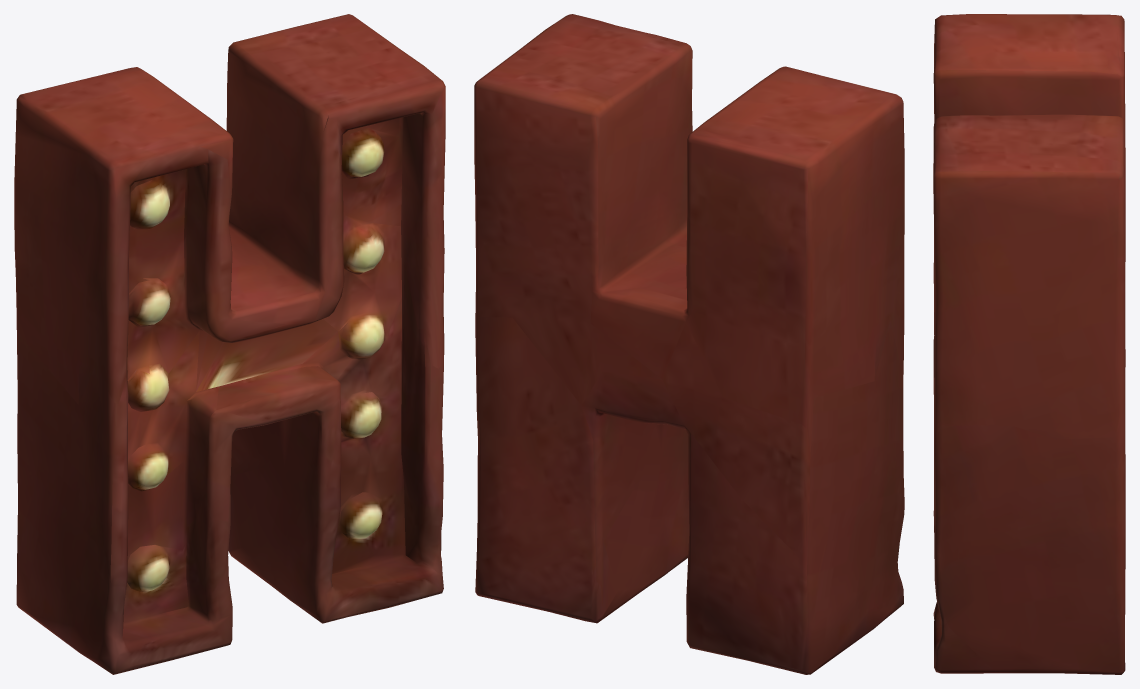
File: letter_h_idle.glb
3 renders of one model, left to right at view 1: azimuth 30°, elevation 25°; view 2: azimuth 150°, elevation 25°; view 3: azimuth 270°, elevation 25°, orthographic. The views are drawn at different scales.
Parts seen in each view (by area): view 1: letter_g; view 2: letter_g; view 3: letter_g.
Part boxes in pixels (x1=…): letter_g: x1=14, y1=14, x2=445, y2=674; letter_g: x1=474, y1=14, x2=904, y2=674; letter_g: x1=933, y1=14, x2=1125, y2=674.
Size of the model in its own units: 0.676 by 0.9773 by 0.3375.
1 material, 1 textured.
